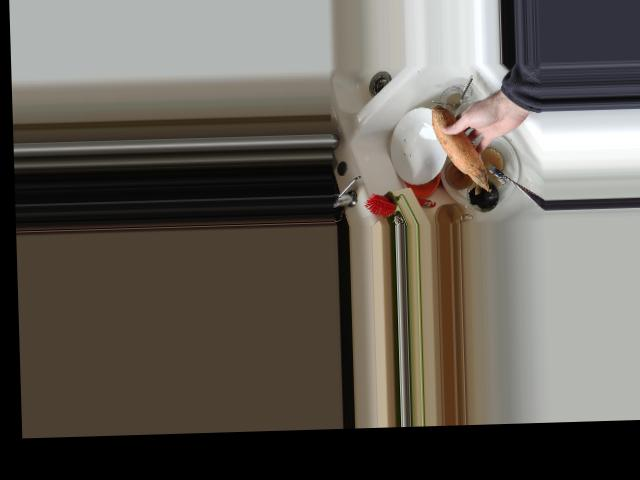sweet_potato: (428, 103, 493, 191)
